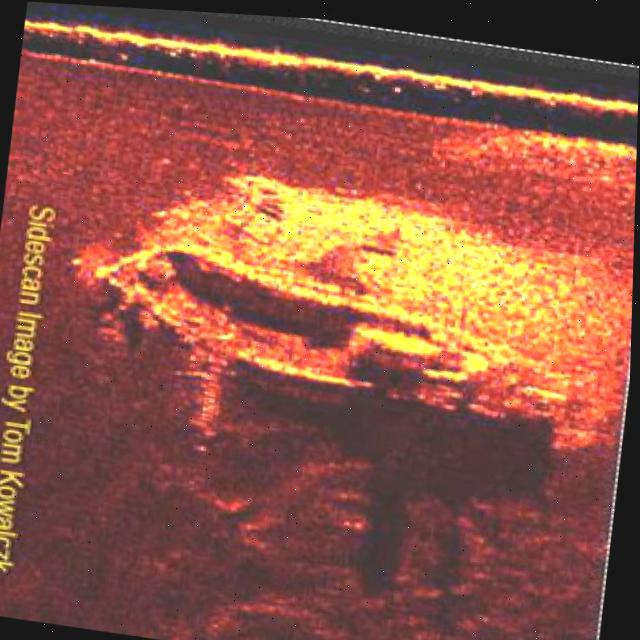shipwreck: (97, 228, 585, 410)
